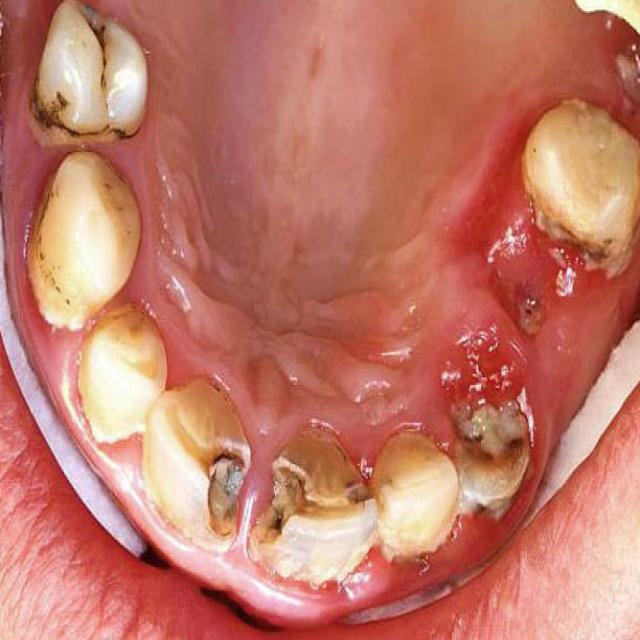caries: (453, 396, 536, 509), (246, 448, 305, 554), (190, 433, 243, 540), (21, 75, 87, 144), (337, 461, 375, 539), (84, 14, 122, 86)
